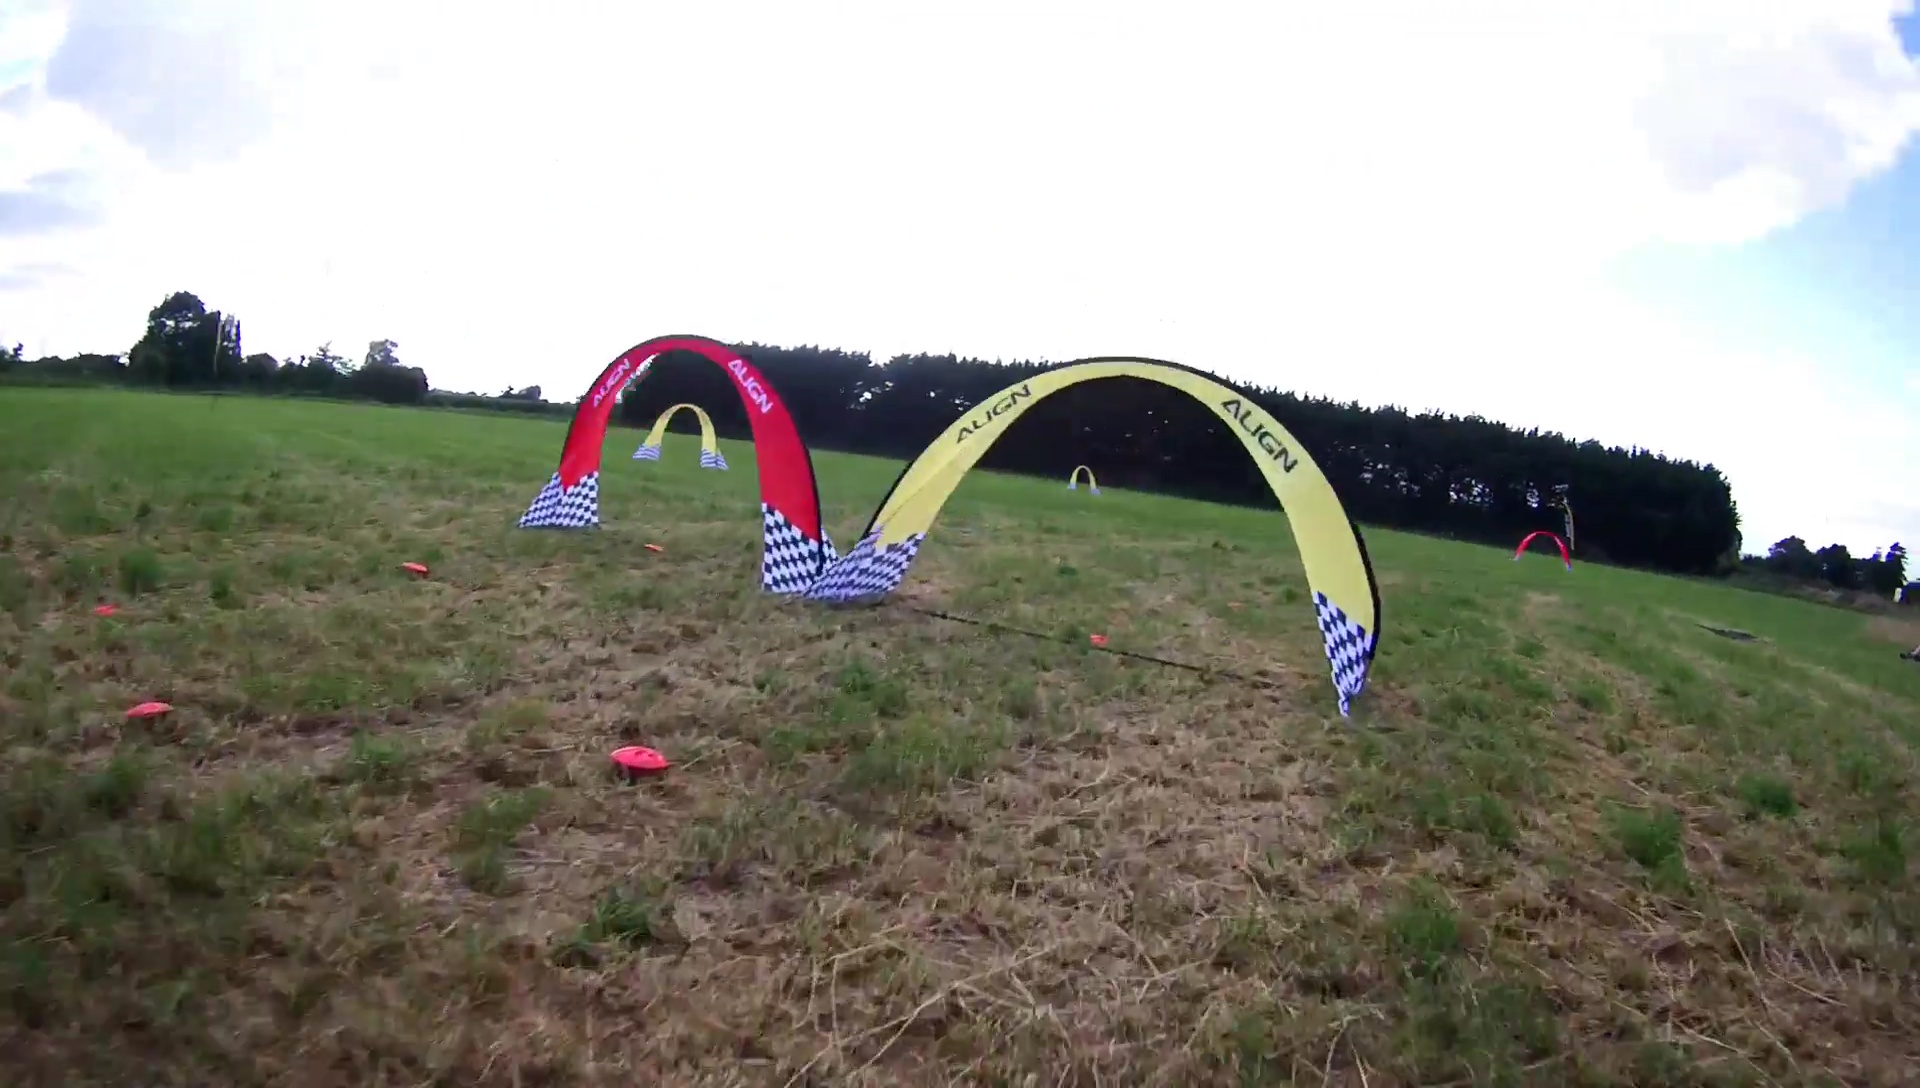gate: (831, 349, 1385, 710), (520, 334, 837, 600), (633, 404, 732, 472), (1509, 529, 1575, 571), (1067, 463, 1101, 492)
